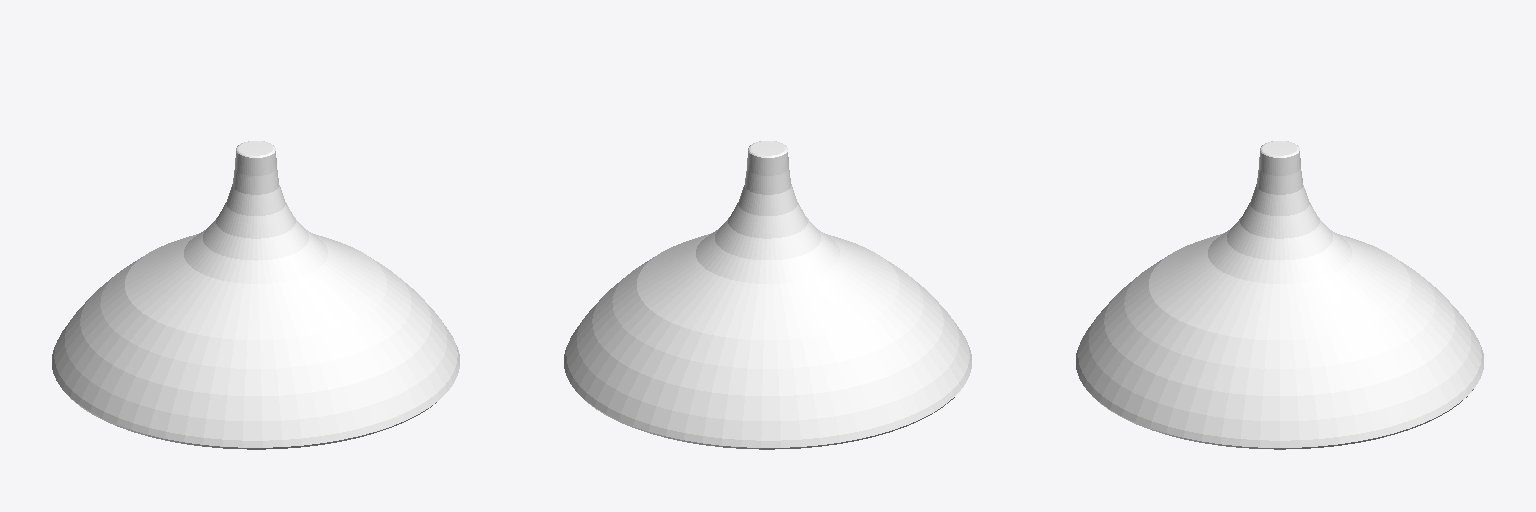
3 views of the same model, side by side, from view 1: azimuth 30°, elevation 25°; view 2: azimuth 150°, elevation 25°; view 3: azimuth 270°, elevation 25° (orthographic).
Visible parts, largest first — view 1: glassCover; view 2: glassCover; view 3: glassCover.
Part boxes in pixels (left/top/right/bottom): glassCover: left=52, top=141, right=459, bottom=449; glassCover: left=564, top=141, right=971, bottom=449; glassCover: left=1076, top=141, right=1483, bottom=449.
Size of the model in its own units: 0.3561 by 0.2073 by 0.3561.